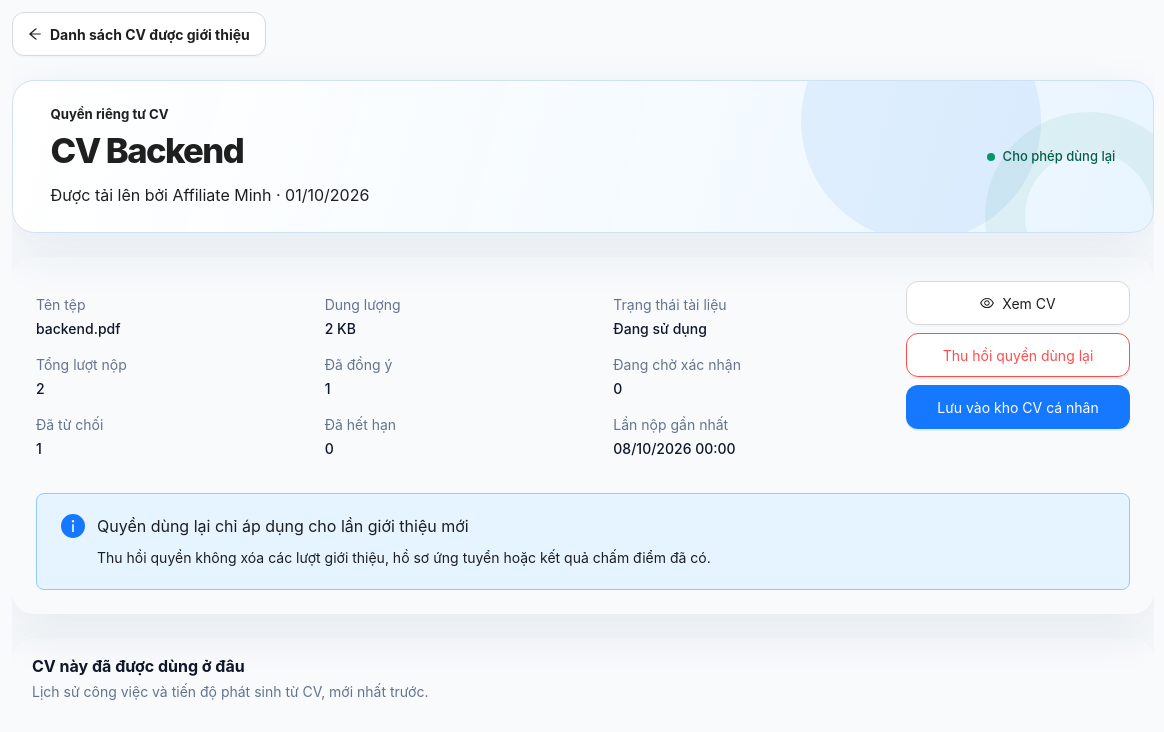
Test: CandidateAffiliateCvDetailPage › uses the current concurrency token when revoking reuse
This screenshot has width=1164, height=732.
Step 1. Click the button "Thu hồi quyền dùng lại" → (1018, 355), box [906,333,1130,377]
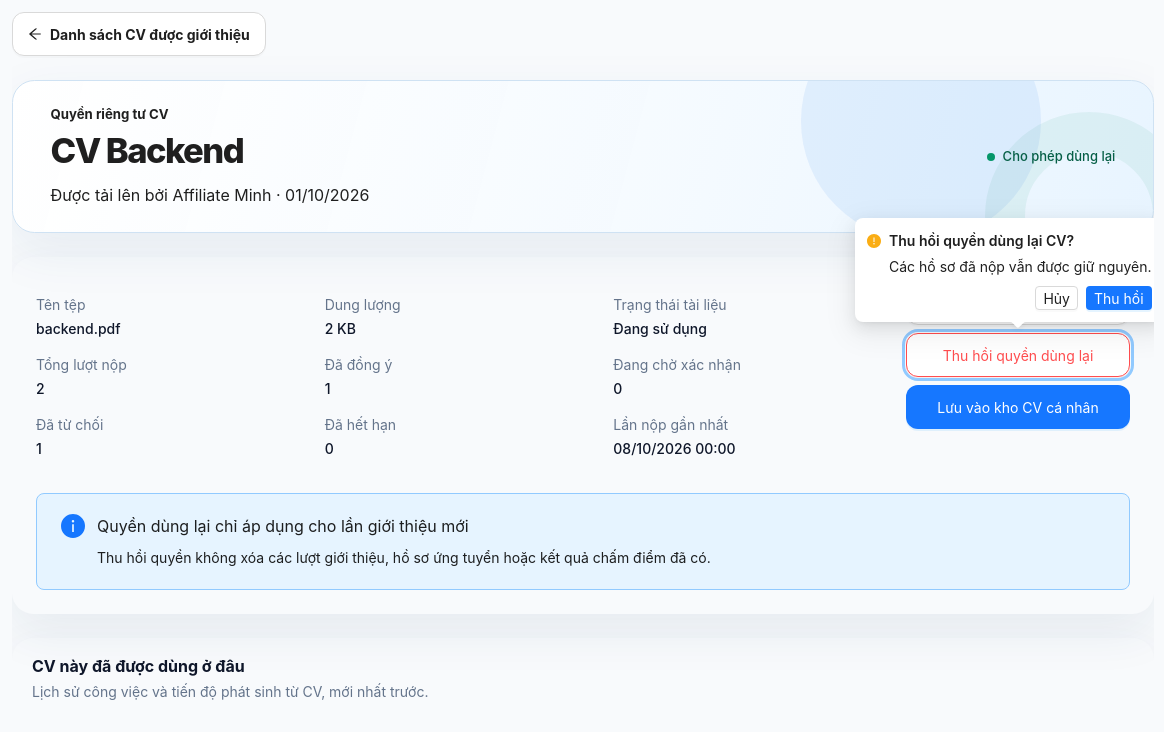
Step 2. Click the button "Thu hồi" → (1119, 298), box [1086,286,1152,310]
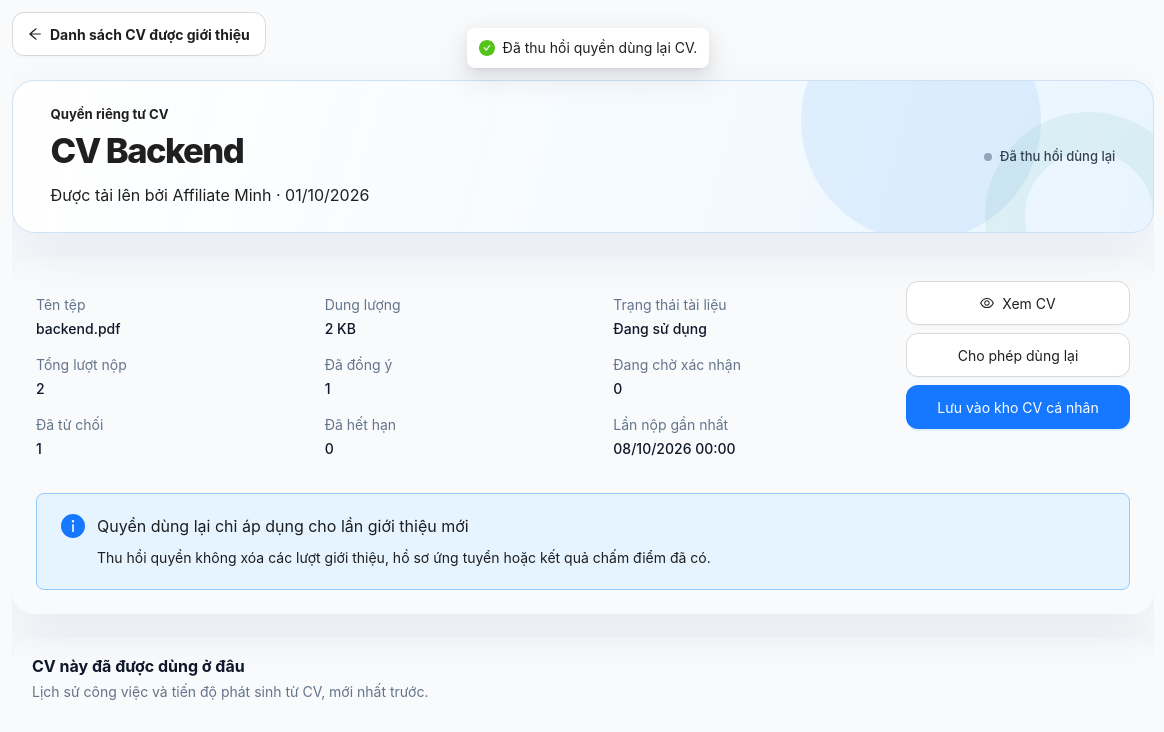
Now the button "Cho phép dùng lại" is shown, box [906,333,1130,377]
